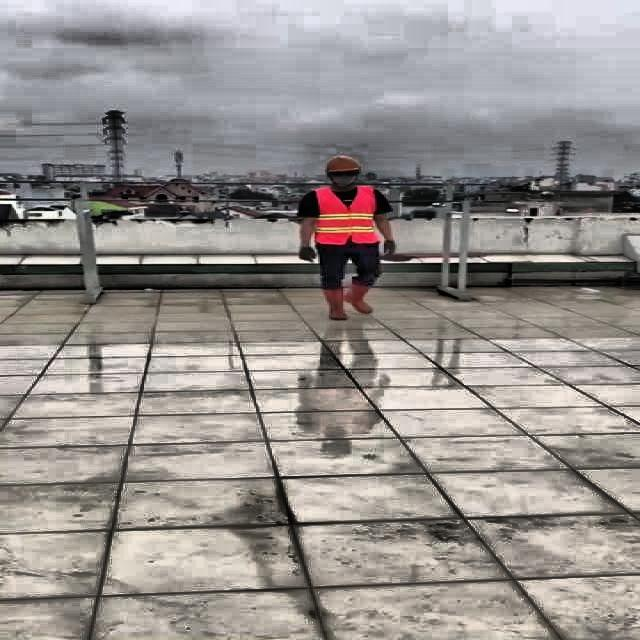safety_helmet: (325, 154, 361, 172)
safety_jacket: (314, 187, 376, 245)
